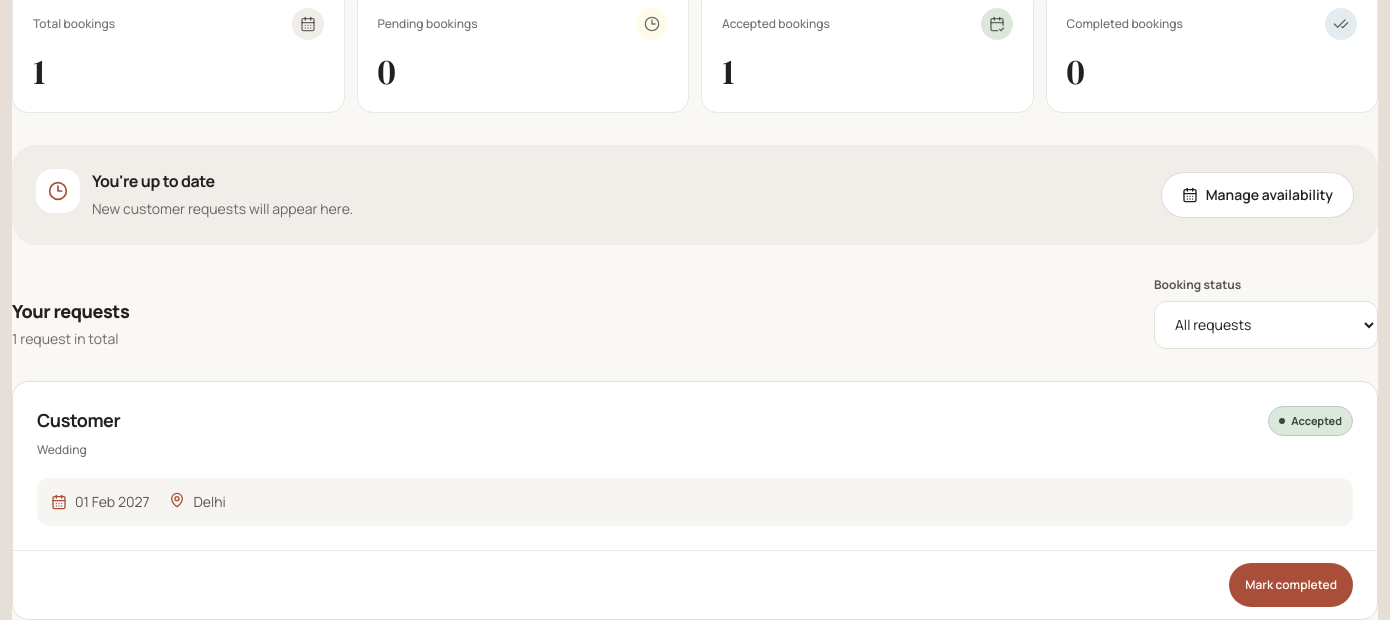
vendor booking management › allows completion only after acceptance
(page scrolled)
Click the button "Mark completed". click: [1291, 585]
box: x1=1229 y1=563 x2=1353 y2=607
(page scrolled)
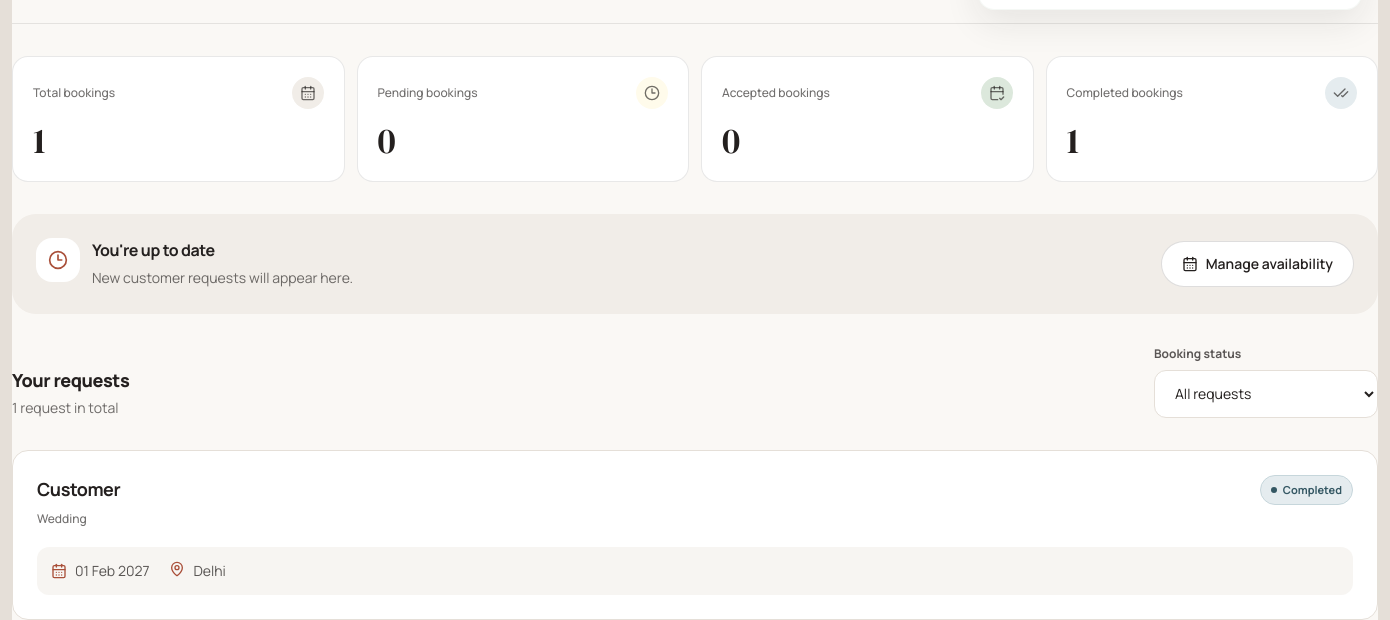
Check: the text "completed" is shown, box x1=1260 y1=474 x2=1353 y2=505
